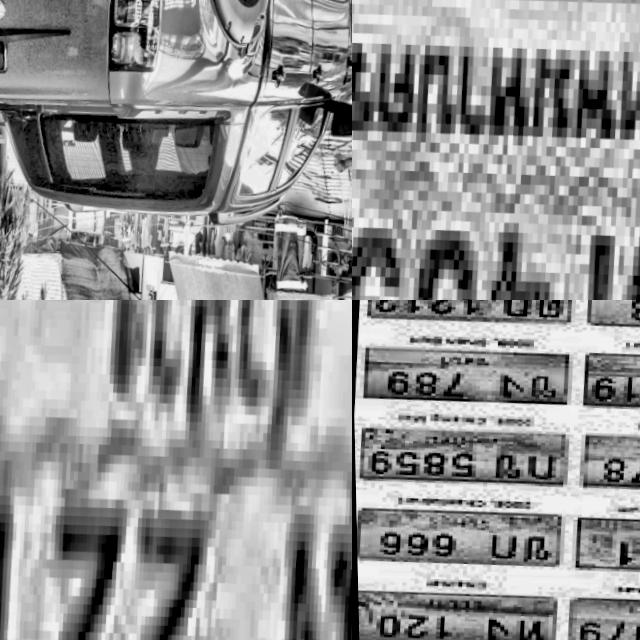license-plate: (0, 300, 352, 640), (352, 0, 640, 300), (356, 336, 573, 414), (354, 498, 562, 577), (353, 419, 568, 495), (355, 580, 553, 640), (357, 300, 576, 332), (571, 426, 640, 505), (571, 510, 640, 587), (577, 346, 640, 424), (563, 589, 640, 640)
